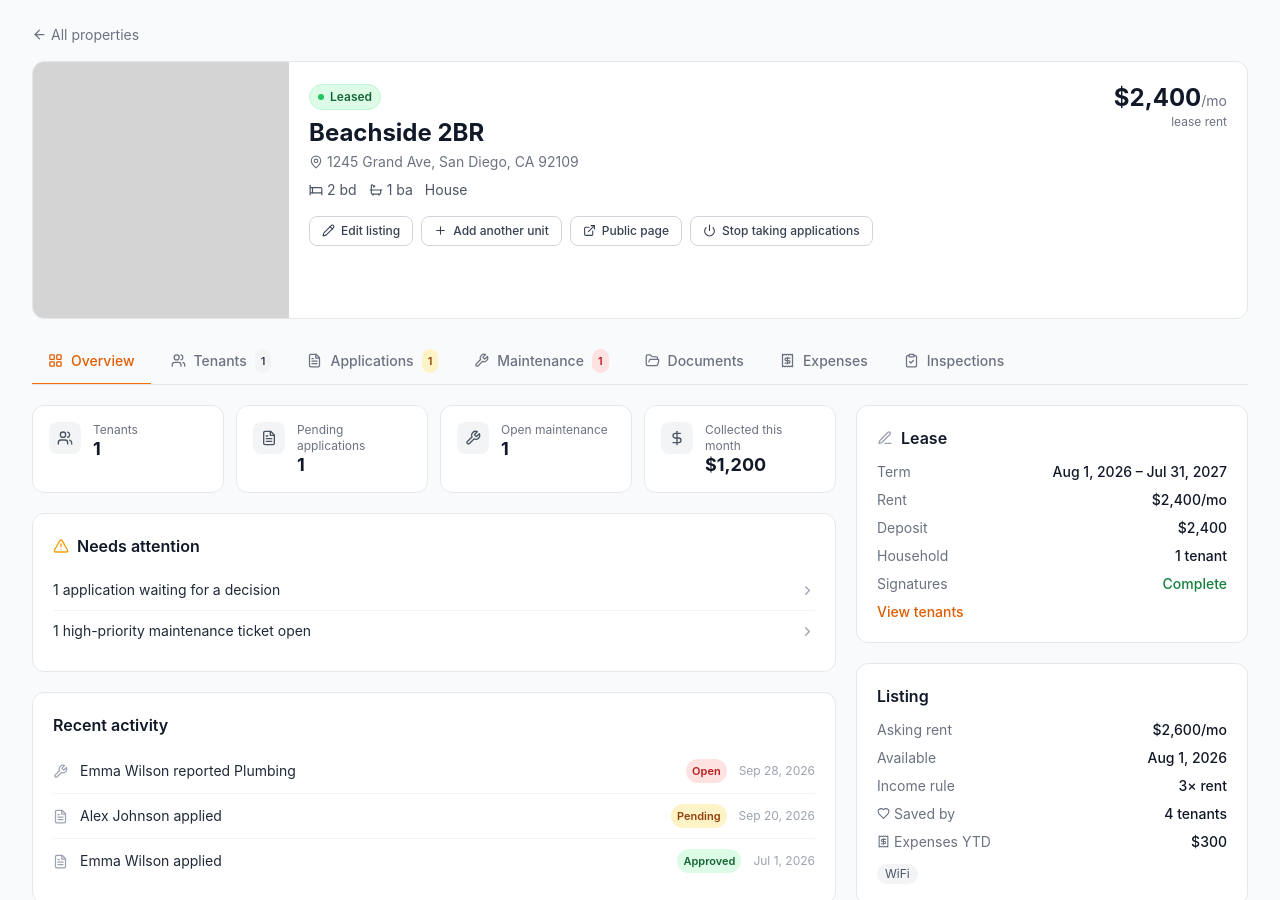
PropertyWorkspace › switches tabs from the tab bar
Expected: the heading "Beachside 2BR" is shown, [309,118,484,146]
Click the 1st button "Tenants 1". click: (221, 362)
box: [154,338,287,384]
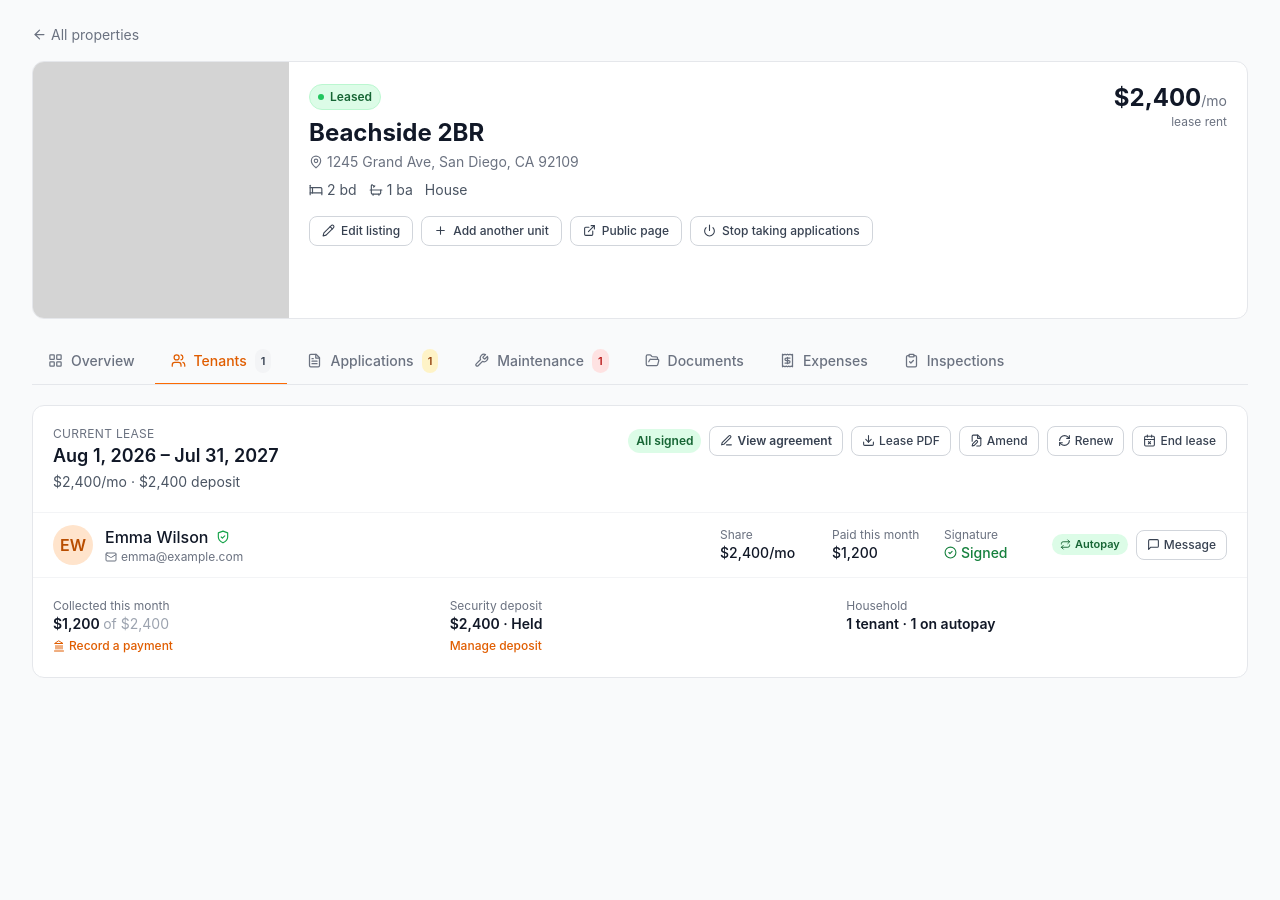
Expected: the text "Emma Wilson" is shown, [105,524,243,548]
Result: the text "All signed" is shown at [628,428,702,452]
Result: the text "Autopay" is shown at [1052,534,1128,555]
